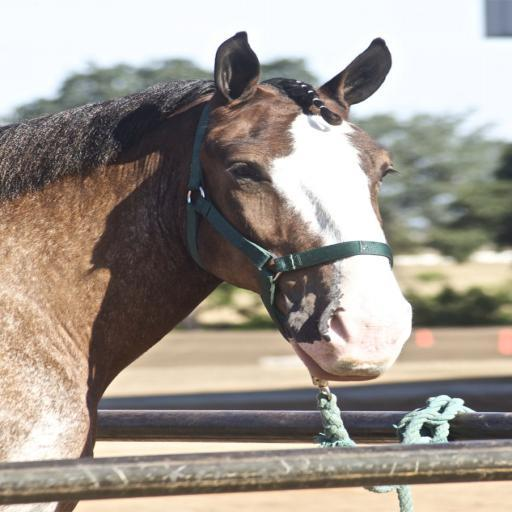Horse: (0, 28, 412, 512)
